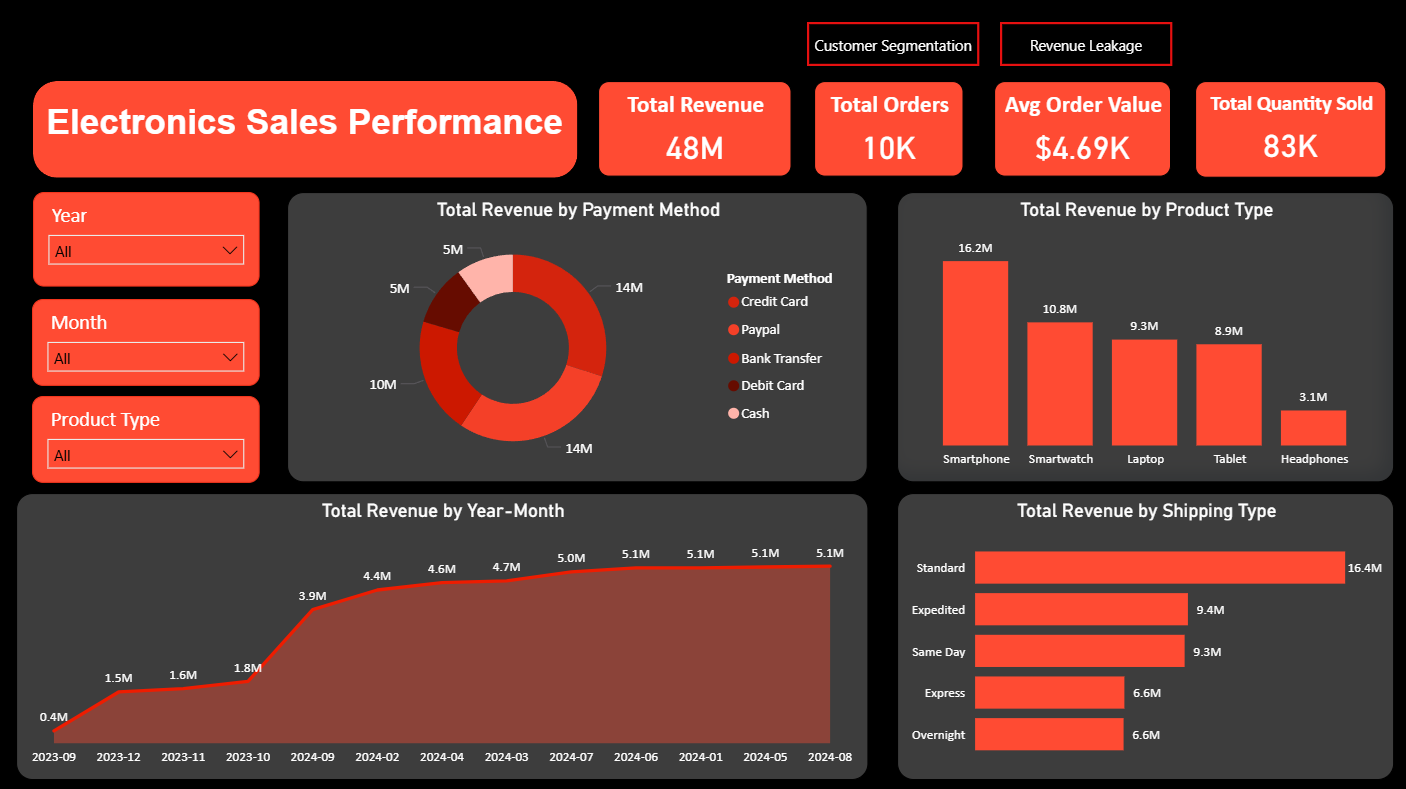

The dashboard page shown, as its layout file describes it:
{"tool":"powerbi","page":{"name":"Sales Overview","canvas":[1280,720],"ordinal":0},"visuals":[{"type":"card","title":"Total Revenue","fields":{"Values":["Electronics Sales.Total Revenue"]},"box":[543.3,73.2,176,87],"z":0},{"type":"card","title":"Total Orders","fields":{"Values":["_measures.Total Orders"]},"box":[740.3,73.2,136,87],"z":1000},{"type":"card","title":"Avg Order Value","fields":{"Values":["_measures.Average Order Value"]},"box":[903.3,73.2,161,87],"z":2000},{"type":"card","title":"Total Quantity Sold","fields":{"Values":["_measures.Total Quantity Sold"]},"box":[1086.3,73.2,174,88],"z":3000},{"type":"areaChart","fields":{"Category":["Date Table.Year-Month"],"Y":["_measures.Total Revenue"]},"box":[14.3,447.8,774.6,261.5],"z":4000},{"type":"clusteredColumnChart","fields":{"Category":["Electronics Sales.Product Type"],"Y":["_measures.Total Revenue"]},"box":[815.6,174.4,452.2,264.4],"z":5000},{"type":"donutChart","fields":{"Category":["Electronics Sales.Payment Method"],"Y":["_measures.Total Revenue"]},"box":[261.1,174.4,527.8,264.4],"z":6000},{"type":"clusteredBarChart","fields":{"Category":["Electronics Sales.Shipping Type"],"Y":["_measures.Total Revenue"]},"box":[815.6,447.8,452.2,261.1],"z":7000},{"type":"slicer","fields":{"Values":["Date Table.Year"]},"box":[30,174.4,205.6,85.6],"z":8000},{"type":"slicer","fields":{"Values":["Date Table.Date.Variation.Date Hierarchy.Month"]},"box":[28.9,272.2,206.7,78.9],"z":9000},{"type":"slicer","fields":{"Values":["Electronics Sales.Product Type"]},"box":[28.9,360,206.7,78.9],"z":10000},{"type":"shape","box":[30,73.4,495,88],"z":11000},{"type":"textbox","box":[37,88.4,481,88],"z":12000},{"type":"actionButton","box":[733.3,19.9,156.7,40],"z":13000},{"type":"actionButton","box":[908.9,19.9,156.7,40],"z":14000}]}

Visuals, with their boxes in screenshot pixels (x1, y1, x2, y2), scaled from the page's 1280x720 canvas onto the 1406x789 screenshot:
"Total Revenue" card: x1=597 y1=80 x2=790 y2=176
"Total Orders" card: x1=813 y1=80 x2=963 y2=176
"Avg Order Value" card: x1=992 y1=80 x2=1169 y2=176
"Total Quantity Sold" card: x1=1193 y1=80 x2=1384 y2=177
areaChart - Date Table.Year-Month x _measures.Total Revenue: x1=16 y1=491 x2=867 y2=777
clusteredColumnChart - Electronics Sales.Product Type x _measures.Total Revenue: x1=896 y1=191 x2=1393 y2=481
donutChart - Electronics Sales.Payment Method x _measures.Total Revenue: x1=287 y1=191 x2=867 y2=481
clusteredBarChart - Electronics Sales.Shipping Type x _measures.Total Revenue: x1=896 y1=491 x2=1393 y2=777
slicer - Date Table.Year: x1=33 y1=191 x2=259 y2=285
slicer - Date Table.Date.Variation.Date Hierarchy.Month: x1=32 y1=298 x2=259 y2=385
slicer - Electronics Sales.Product Type: x1=32 y1=395 x2=259 y2=481
shape: x1=33 y1=80 x2=577 y2=177
textbox: x1=41 y1=97 x2=569 y2=193
actionButton: x1=805 y1=22 x2=978 y2=66
actionButton: x1=998 y1=22 x2=1170 y2=66
